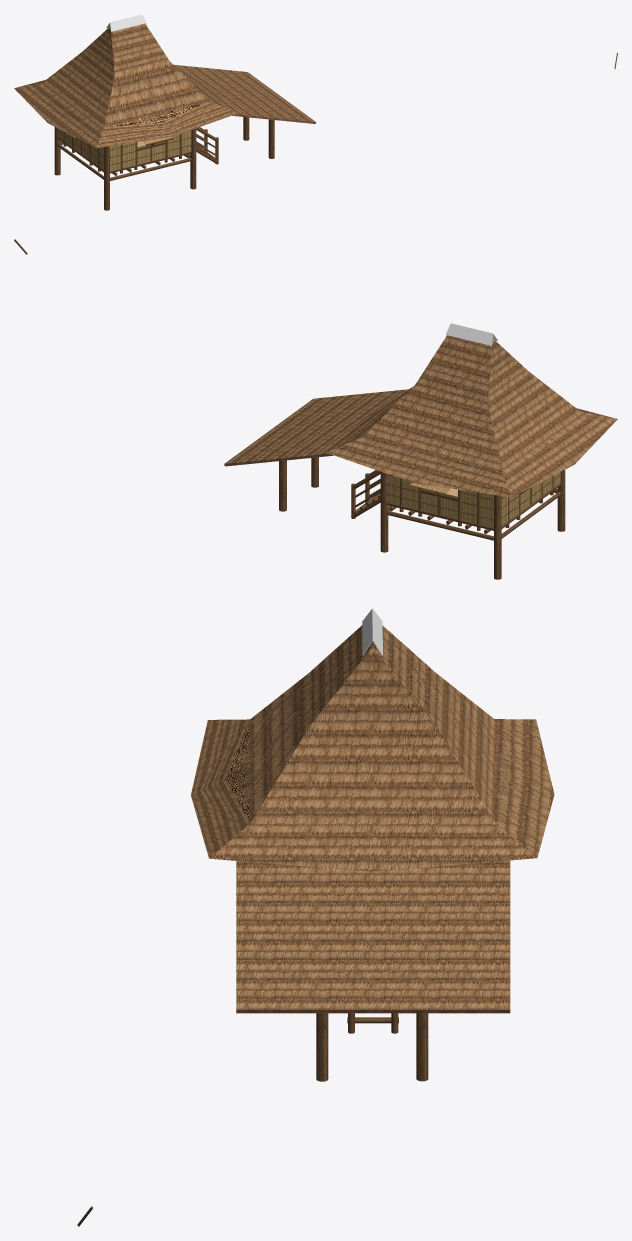
Rendered from cuadrada.fbx.
The picture shows the model from 3 angles, top to bottom: view 1: azimuth 30°, elevation 25°; view 2: azimuth 150°, elevation 25°; view 3: azimuth 270°, elevation 25°; orthographic projection. The views are drawn at different scales.
Parts seen in each view (by area): view 1: Atop, Cube.011, WallSIde.001, PillarWindow.001, WallSIde, Cylinder.008, Cylinder.016, Atop2, Cylinder.015; view 2: Atop, Cube.011, WallSIde.002, PillarWindow, PillarWindow.001, WallSIde, Atop2, Cylinder.016; view 3: Atop, Cube.011, Cylinder.083, Cylinder.084.
Part boxes in pixels (bbox=[...]): Atop: bbox=[14, 23, 237, 148]; Cube.011: bbox=[174, 64, 315, 123]; WallSIde.001: bbox=[110, 130, 191, 171]; PillarWindow.001: bbox=[54, 127, 103, 179]; WallSIde: bbox=[58, 128, 103, 169]; Cylinder.008: bbox=[190, 128, 196, 189]; Cylinder.016: bbox=[104, 146, 109, 210]; Atop2: bbox=[106, 14, 146, 31]; Cylinder.015: bbox=[110, 158, 191, 180]; Atop: bbox=[326, 335, 617, 497]; Cube.011: bbox=[224, 389, 408, 466]; WallSIde.002: bbox=[387, 475, 493, 527]; PillarWindow: bbox=[380, 472, 493, 552]; PillarWindow.001: bbox=[494, 476, 561, 579]; WallSIde: bbox=[501, 472, 560, 525]; Atop2: bbox=[445, 323, 497, 345]; Cylinder.016: bbox=[557, 470, 565, 531]; Atop: bbox=[191, 625, 554, 871]; Cube.011: bbox=[236, 860, 510, 1013]; Cylinder.083: bbox=[316, 1013, 328, 1081]; Cylinder.084: bbox=[416, 1013, 428, 1081].
Bounding box in the file's own units: 6927 × 2156 × 2860.
